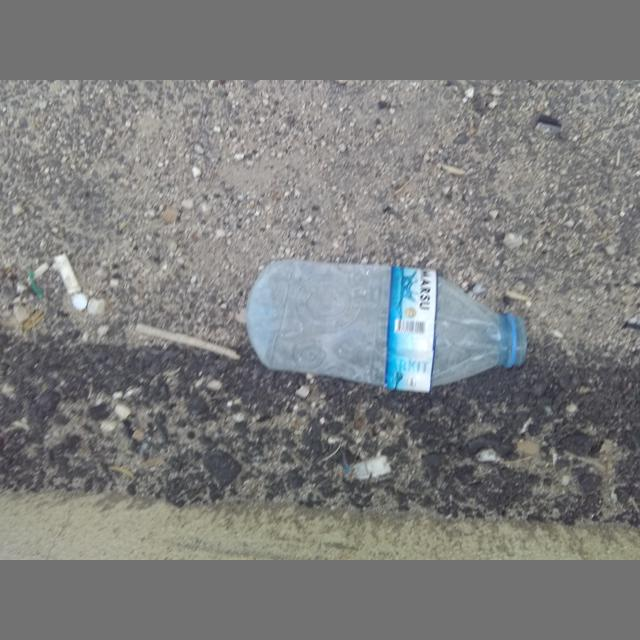litter: (245, 261, 528, 390), (55, 256, 80, 294)
